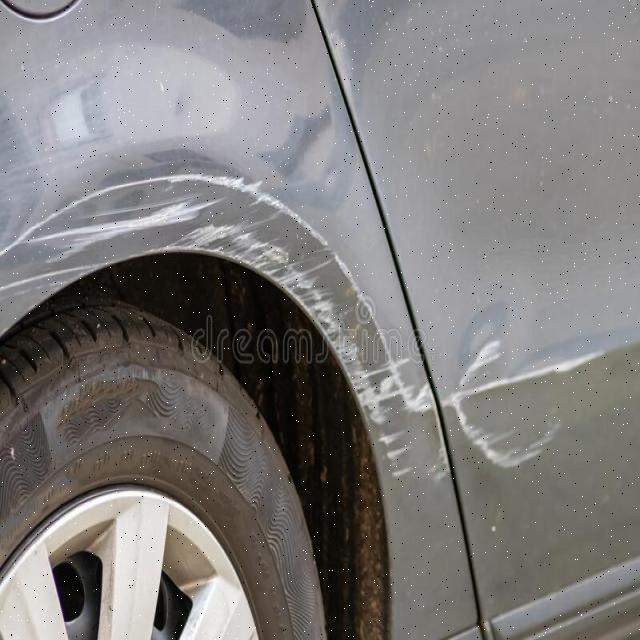bumper: (0, 0, 319, 521), (90, 178, 449, 639)
